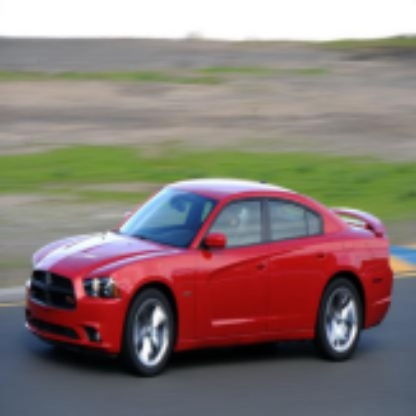Vehicle: (22, 176, 398, 377)
